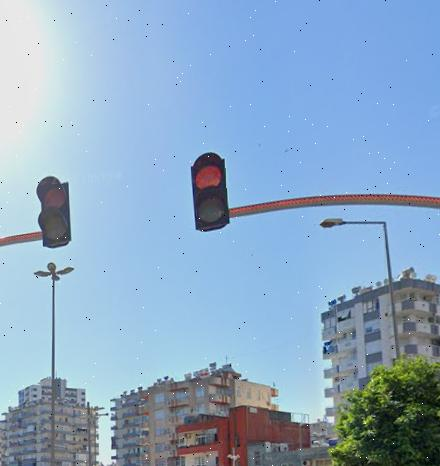redlight: (191, 147, 228, 231), (33, 177, 74, 242)
